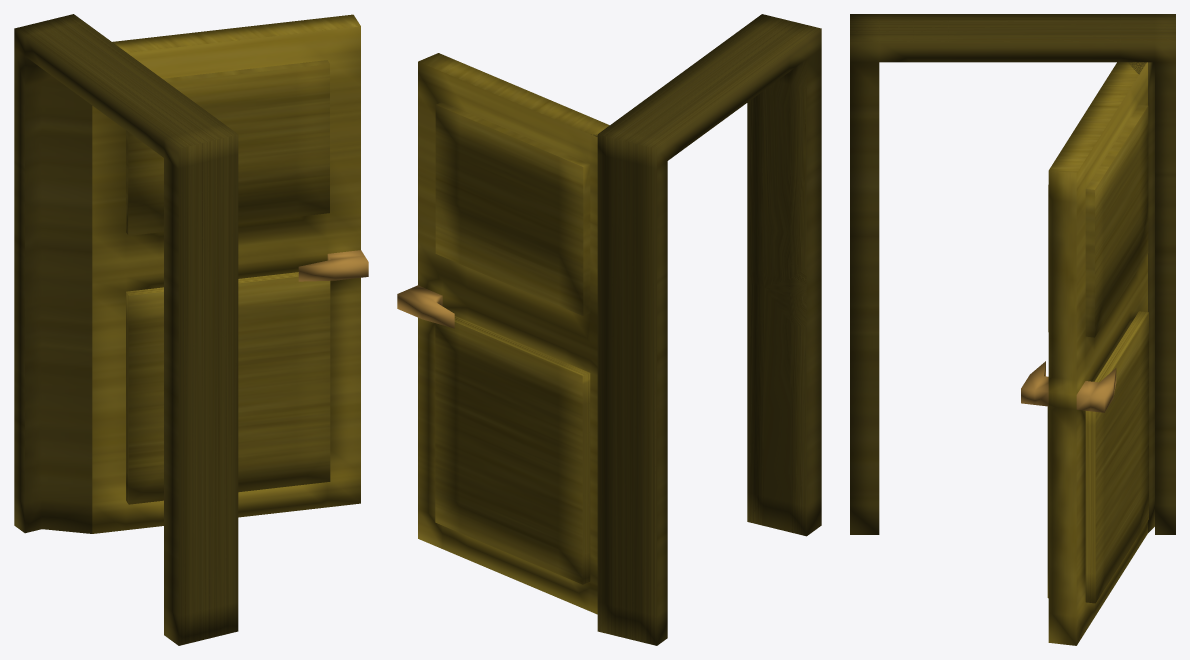
The model's file is door-closed.obj.
3 views of the same model, side by side, from view 1: azimuth 30°, elevation 25°; view 2: azimuth 150°, elevation 25°; view 3: azimuth 270°, elevation 25° (orthographic).
Visible parts, largest first — view 1: Plane; view 2: Plane; view 3: Plane.
Part boxes in pixels (x1,y1,x2,y2): Plane: (14,14,368,645); Plane: (397,14,821,645); Plane: (850,14,1175,645).
Size of the model in its own units: 2.74 by 4.4 by 2.64.
1 material, 1 textured.
